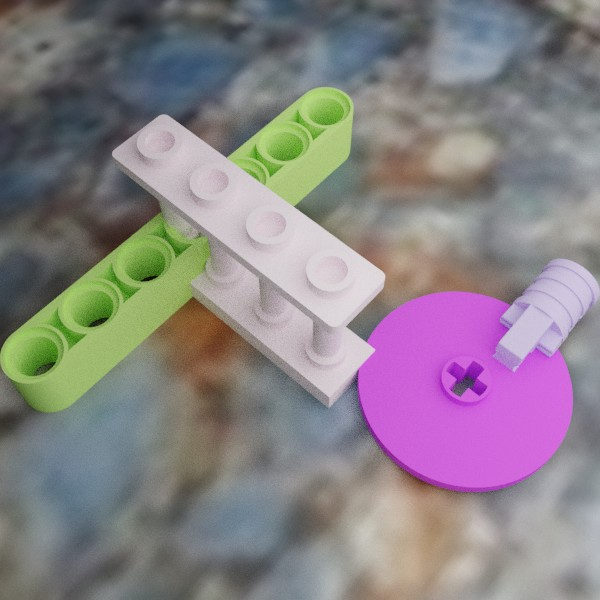lego: (0, 87, 353, 412), (112, 114, 385, 408), (357, 291, 572, 492), (490, 258, 600, 376)
